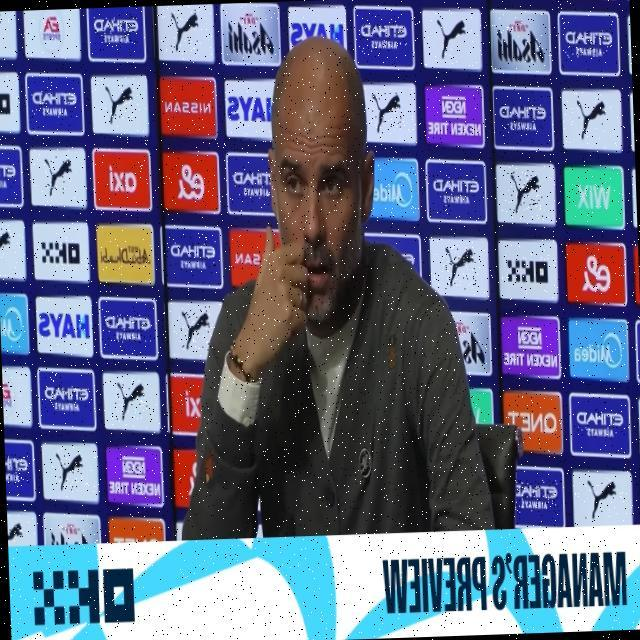Etihad Airways: (514, 479, 559, 515), (576, 409, 625, 441), (433, 174, 479, 207), (169, 240, 216, 272), (31, 87, 77, 119), (104, 312, 151, 343), (499, 103, 547, 133), (361, 22, 407, 52), (564, 30, 613, 58), (232, 168, 273, 199), (93, 16, 138, 44), (44, 384, 89, 412), (5, 453, 29, 484), (0, 160, 16, 189)
Puma: (507, 170, 542, 218), (169, 6, 202, 54), (576, 92, 608, 140), (442, 245, 476, 290), (584, 478, 619, 521), (114, 379, 148, 422), (435, 15, 466, 62), (180, 306, 211, 351), (104, 83, 134, 126), (372, 92, 402, 134), (43, 155, 72, 198), (56, 449, 84, 492), (7, 520, 23, 543), (0, 228, 10, 255), (0, 10, 5, 30)
